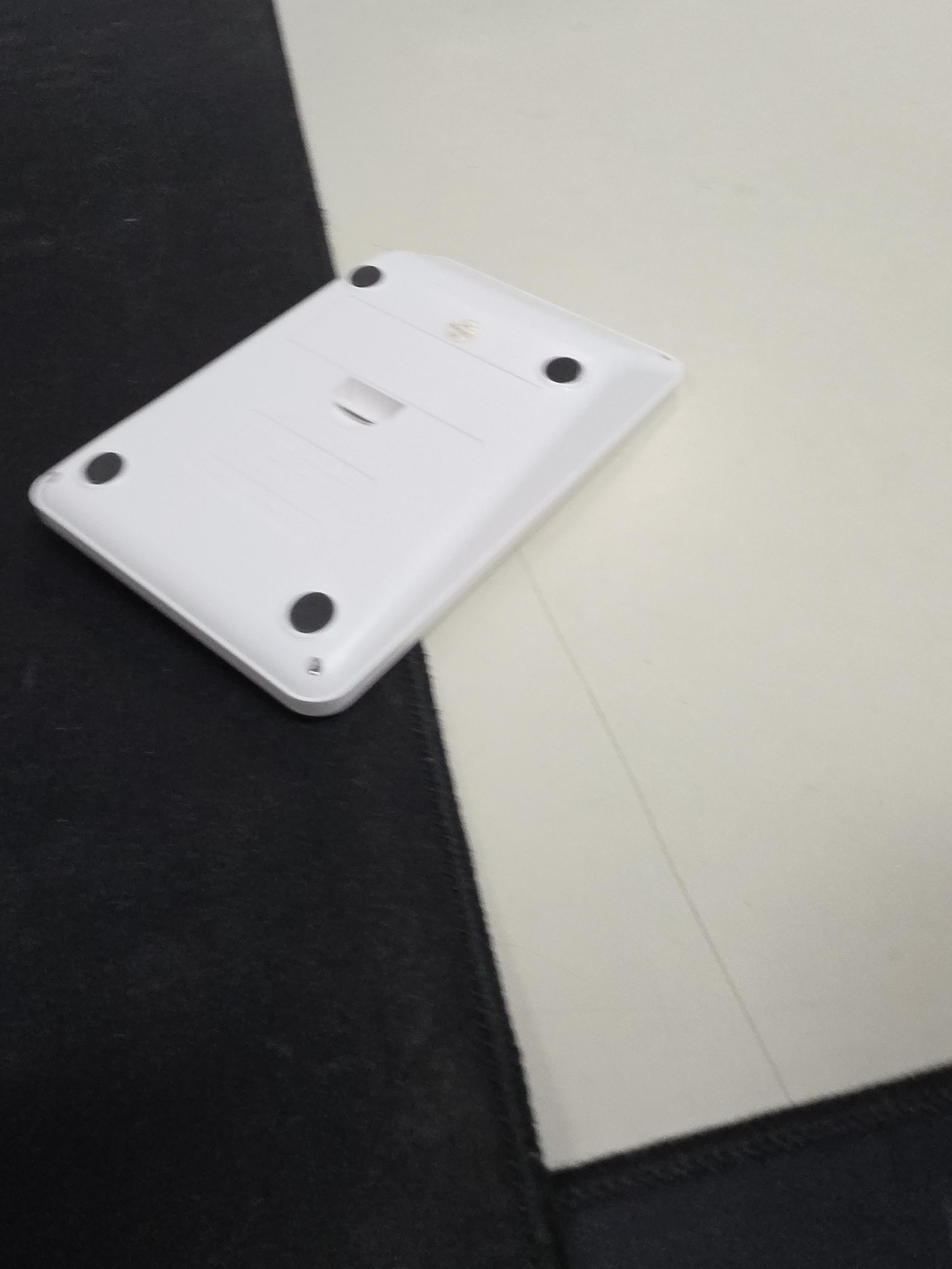calculator: (27, 249, 687, 718)
